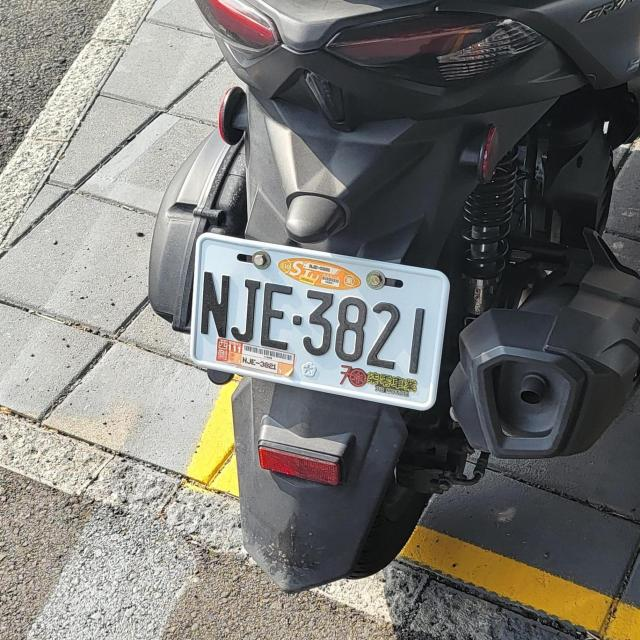W: (180, 238, 454, 406)
